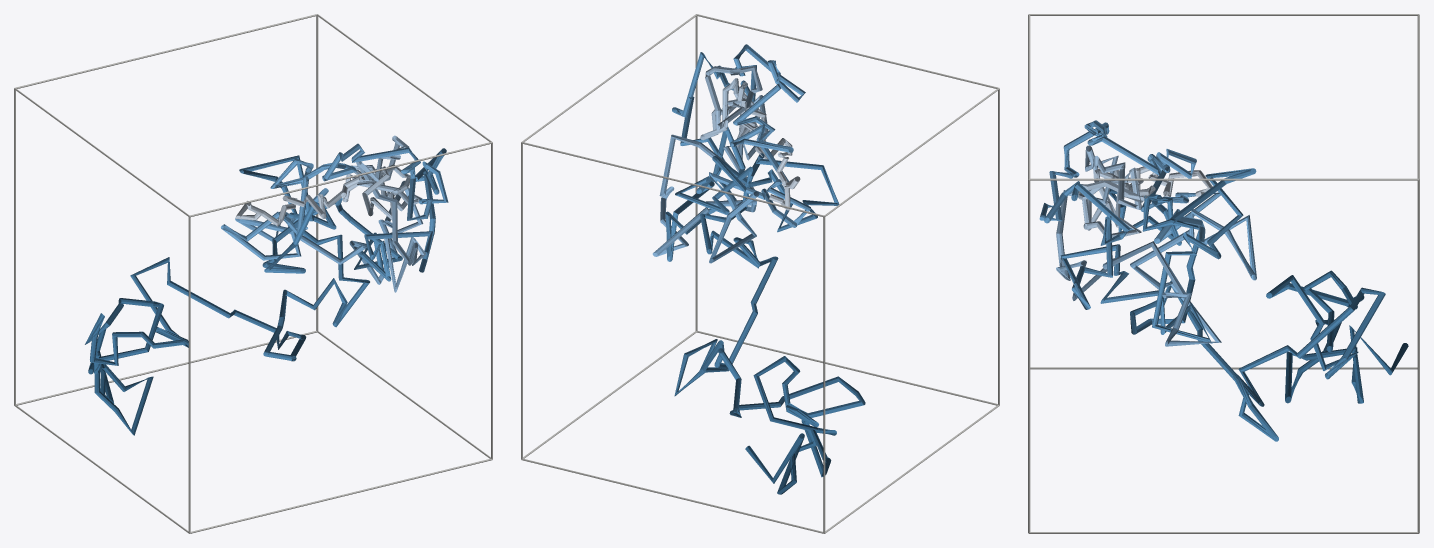
The picture shows the model from 3 angles, left to right: view 1: azimuth 30°, elevation 25°; view 2: azimuth 150°, elevation 25°; view 3: azimuth 270°, elevation 25°; orthographic projection. The views are drawn at different scales.
Visible parts, largest first — view 1: geometry_0, geometry_1; view 2: geometry_0, geometry_1; view 3: geometry_0, geometry_1.
Boxes of the visible parts, x1,y1,x2,y2 form: geometry_0: (85,135,448,435); geometry_1: (14,14,492,533); geometry_0: (652,44,865,494); geometry_1: (521,14,999,533); geometry_0: (1039,120,1408,441); geometry_1: (1028,14,1419,533).
Size of the model in its own units: 0.3016 by 0.304 by 0.3016.
